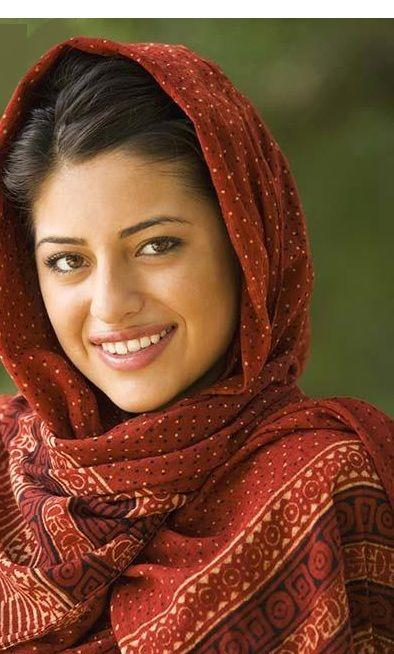scarf-kerchief: (0, 22, 347, 483)
